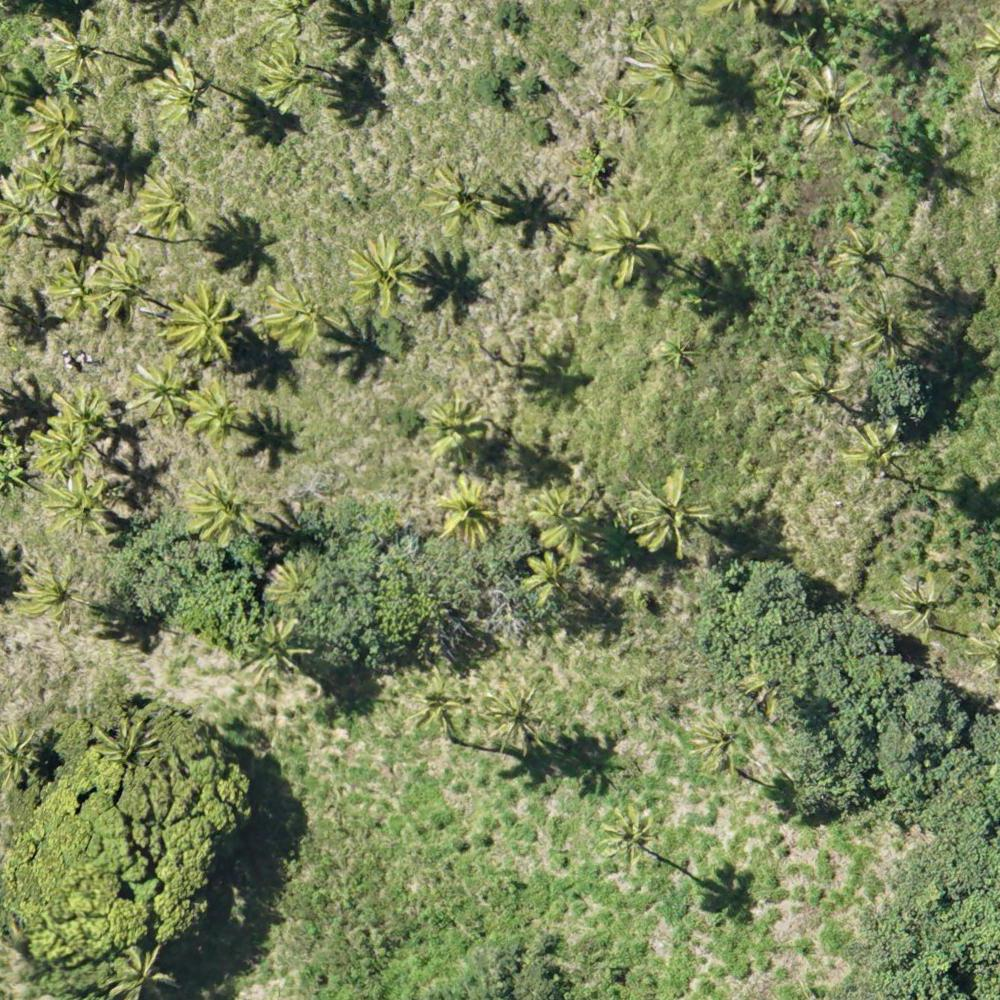Palm: (632, 467, 709, 560), (785, 65, 868, 145), (625, 24, 706, 105), (164, 283, 242, 363), (347, 235, 421, 318), (422, 162, 497, 239), (590, 210, 665, 285), (187, 471, 263, 543), (261, 284, 332, 358), (435, 474, 503, 548), (847, 298, 919, 366), (525, 486, 599, 551), (253, 36, 317, 111), (42, 15, 107, 88), (43, 476, 116, 540), (97, 249, 154, 326), (424, 394, 486, 464), (485, 683, 550, 749), (129, 360, 193, 427), (400, 676, 471, 736), (49, 383, 120, 443), (20, 565, 80, 635), (153, 55, 211, 127), (689, 714, 753, 777), (600, 804, 661, 868), (18, 96, 79, 160), (842, 415, 908, 474), (1, 176, 57, 245), (91, 718, 157, 774), (134, 171, 195, 231), (31, 426, 99, 478), (45, 256, 102, 318), (188, 381, 242, 446), (889, 572, 945, 634), (834, 224, 896, 279), (790, 357, 849, 412), (522, 552, 574, 605)
